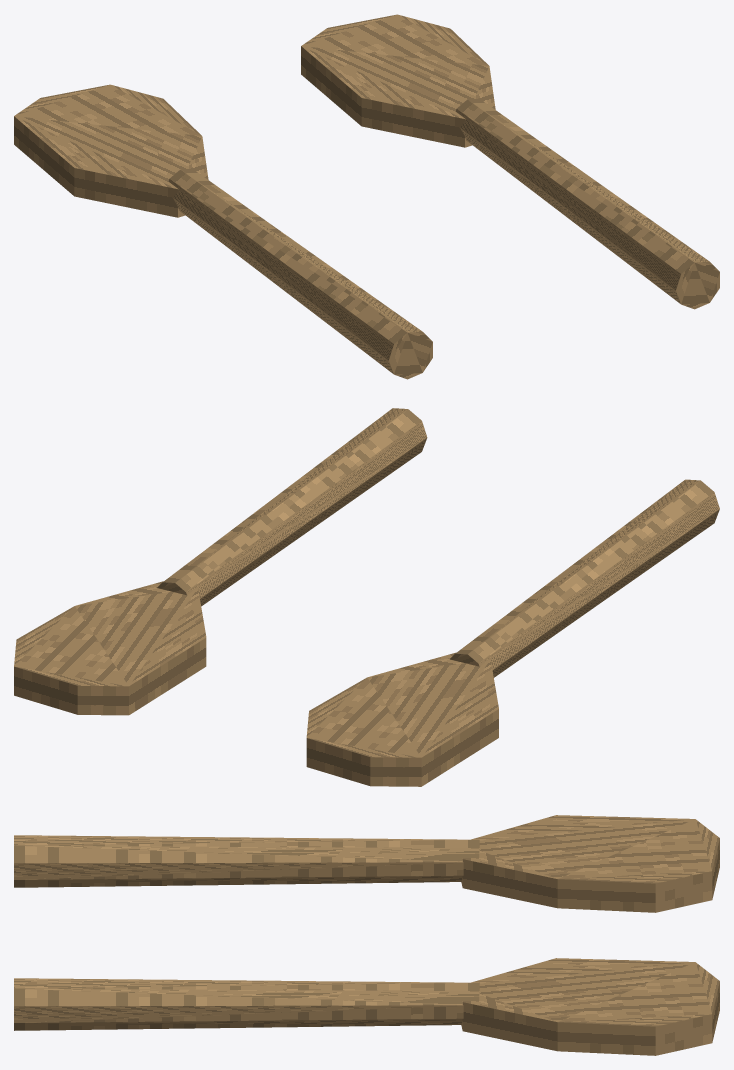
Rendered from hand_paddles.glb.
3 renders of one model, top to bottom at view 1: azimuth 30°, elevation 25°; view 2: azimuth 150°, elevation 25°; view 3: azimuth 270°, elevation 25°, orthographic. The views are drawn at different scales.
Visible parts, largest first — view 1: block_wide paddle blade (×2), block_oar handle (×2); view 2: block_wide paddle blade (×2), block_oar handle (×2); view 3: block_oar handle (×2), block_wide paddle blade (×2).
Part boxes in pixels (x1,y1,x2,y2): block_wide paddle blade (×2): [14, 14, 495, 217]; block_oar handle (×2): [168, 98, 719, 379]; block_wide paddle blade (×2): [14, 581, 498, 786]; block_oar handle (×2): [157, 408, 719, 677]; block_oar handle (×2): [14, 835, 479, 1030]; block_wide paddle blade (×2): [461, 815, 719, 1055].
Size of the model in its own units: 0.3396 by 0.0358 by 0.4788.
Materials: 1 (1 with a texture image).
